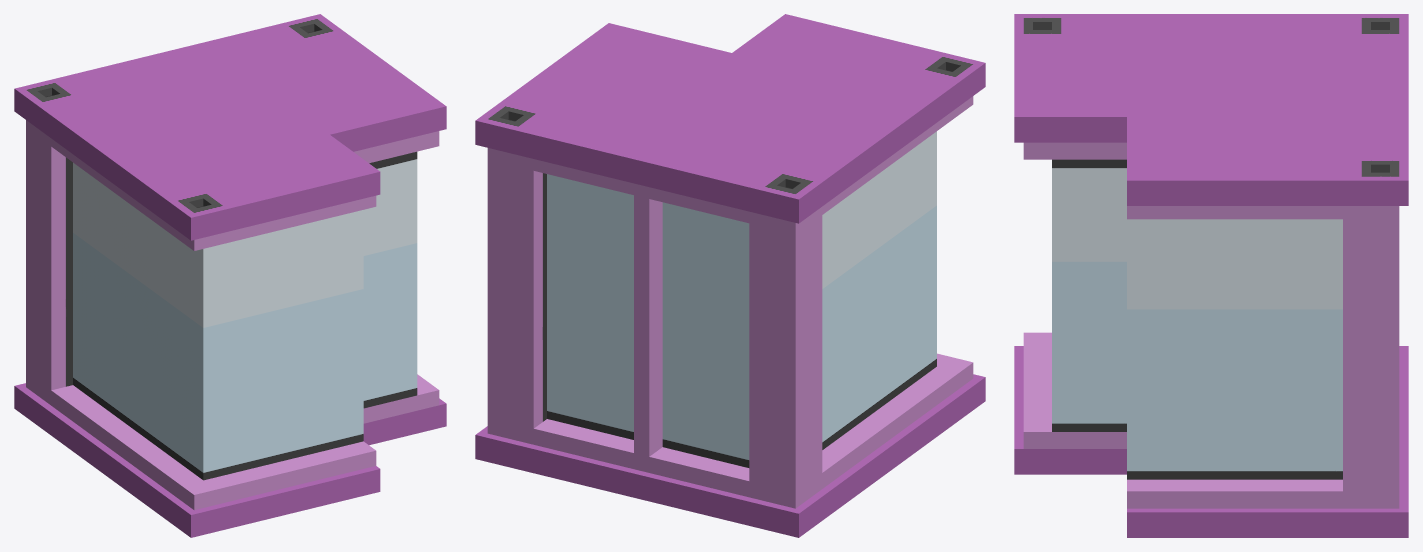
File: Tower_8.fbx
3 renders of one model, left to right at view 1: azimuth 30°, elevation 25°; view 2: azimuth 150°, elevation 25°; view 3: azimuth 270°, elevation 25°, orthographic. The views are drawn at different scales.
Visible parts, largest first — view 1: Box; view 2: Box; view 3: Box.
Boxes of the visible parts, x1,y1,x2,y2 form: Box: (14, 14, 446, 537); Box: (475, 14, 985, 537); Box: (1014, 14, 1408, 537).
Bounding box in the file's own units: 42 × 42 × 42.
1 material, 1 textured.
